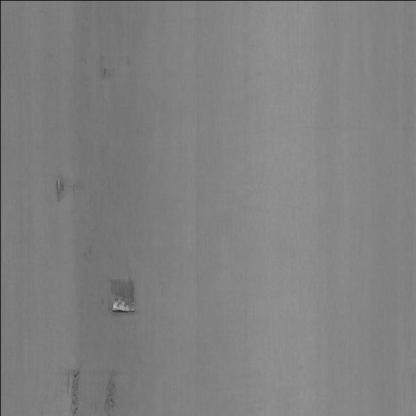rolled_pit: (106, 273, 136, 319), (64, 364, 84, 416), (101, 372, 121, 416), (49, 168, 69, 206)
